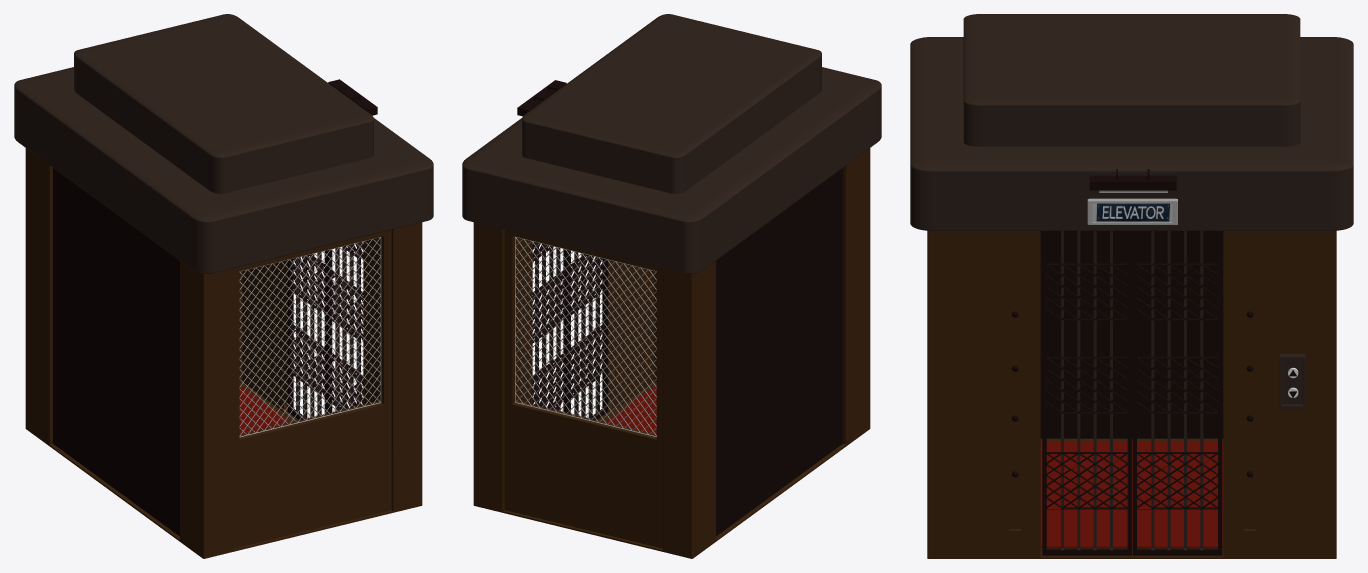
Rendered from vintage elevator.fbx.
3 views of the same model, side by side, from view 1: azimuth 30°, elevation 25°; view 2: azimuth 150°, elevation 25°; view 3: azimuth 270°, elevation 25° (orthographic). The views are drawn at different scales.
Visible parts, largest first — view 1: body, Cube.003, backdoor 1.003, top, Plane.017, Front door 1.001, Plane.011, Plane.003, Plane.010, Plane.004, Front door 1, Plane.005 (+7 smaller); view 2: body, Cube.003, backdoor 1.003, top, Cube.001, Plane.001, Plane.004, Front door 1, Plane.010, Plane.003, Plane.011, Front door 1.001 (+8 smaller); view 3: body, Cube.003, top, backdoor 1.003, Front door 1.001, Front door 1, Plane.003, Plane.004, Plane.010, Plane.002, Plane.011, Plane.009 (+12 smaller).
Part boxes in pixels (x1,y1,x2,y2): body: (25, 148, 422, 558); Cube.003: (14, 67, 433, 273); backdoor 1.003: (53, 168, 179, 536); top: (74, 14, 373, 193); Plane.017: (239, 237, 381, 437); Front door 1.001: (287, 250, 326, 419); Plane.011: (289, 324, 324, 396); Plane.003: (329, 270, 363, 341); Plane.010: (290, 254, 324, 313); Plane.004: (329, 352, 363, 409); Front door 1: (327, 250, 332, 413); Plane.005: (356, 243, 360, 405); body: (473, 148, 870, 558); Cube.003: (462, 67, 881, 273); backdoor 1.003: (716, 168, 842, 536); top: (522, 14, 821, 193); Cube.001: (504, 230, 662, 548); Plane.001: (515, 236, 656, 437); Plane.004: (571, 324, 605, 398); Front door 1: (569, 250, 608, 419); Plane.010: (532, 270, 566, 343); Plane.003: (571, 254, 605, 314); Plane.011: (532, 353, 566, 409); Front door 1.001: (563, 249, 568, 412); body: (927, 230, 1336, 558); Cube.003: (910, 37, 1353, 230); top: (963, 14, 1300, 146); backdoor 1.003: (1040, 231, 1223, 438); Front door 1.001: (1132, 231, 1222, 555); Front door 1: (1042, 231, 1131, 555); Plane.003: (1046, 356, 1127, 413); Plane.004: (1046, 452, 1127, 509); Plane.010: (1137, 356, 1217, 413); Plane.002: (1046, 263, 1127, 320); Plane.011: (1137, 452, 1217, 509); Plane.009: (1137, 263, 1217, 320).
Bounding box in the file's own units: 4927 × 7087 × 6471.
10 materials, 1 textured.
